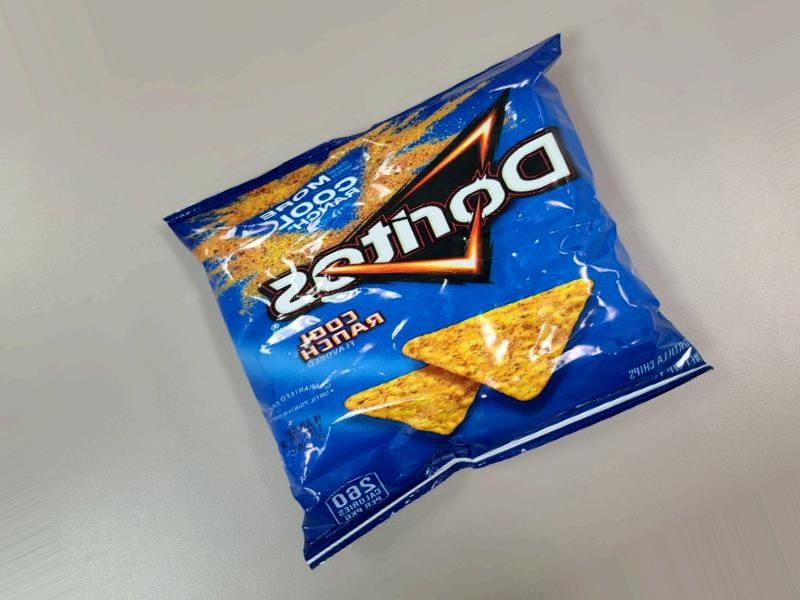doritos: (169, 124, 800, 584)
